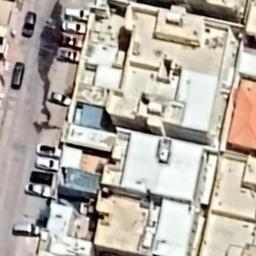SUV: (31, 156, 64, 172), (61, 6, 93, 22)
sedan: (44, 88, 74, 109), (53, 46, 84, 66), (10, 218, 40, 238), (22, 182, 54, 200), (27, 168, 58, 186), (9, 62, 27, 92), (20, 10, 37, 40), (56, 20, 92, 34), (36, 140, 64, 158), (58, 34, 87, 48)
